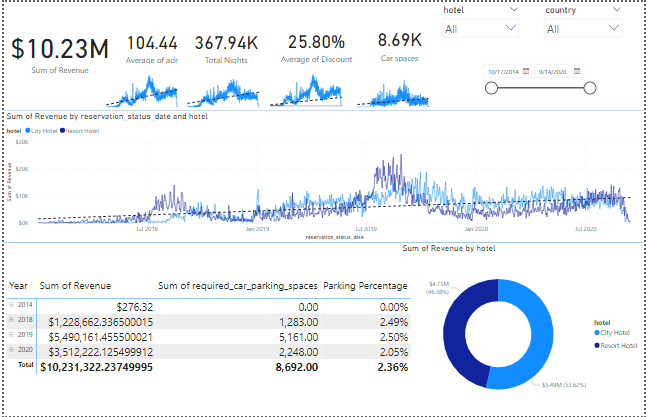

The page's visual inventory and layout, read from the dashboard file:
{"tool":"powerbi","page":{"name":"Page 1","canvas":[1280,828],"ordinal":0},"visuals":[{"type":"shape","box":[0,79,1280,280.5],"z":0},{"type":"shape","box":[0,341,1280,280.5],"z":1000},{"type":"card","fields":{"Values":["Sum(Query2.Revenue)"]},"box":[0,1.7,223.6,191.1],"z":2000},{"type":"card","fields":{"Values":["Avg(Query2.adr)"]},"box":[211.6,41,167.3,95.6],"z":3000},{"type":"card","fields":{"Values":["Query2.Total Nights"]},"box":[366.9,39.3,157,95.6],"z":4000},{"type":"lineChart","fields":{"Category":["Query2.reservation_status_date"],"Y":["Sum(Query2.Revenue)"],"Series":["Query2.hotel"]},"box":[0,218.5,1280,262.8],"z":5000},{"type":"slicer","fields":{"Values":["Query2.country"]},"box":[1070.1,0,175.8,92.2],"z":6000},{"type":"slicer","fields":{"Values":["Query2.hotel"]},"box":[865.3,0,174.1,92.2],"z":7000},{"type":"lineChart","fields":{"Category":["Query2.reservation_status_date"],"Y":["Sum(Query2.adr)"]},"box":[189.4,124.6,172.4,92.2],"z":8000},{"type":"lineChart","fields":{"Category":["Query2.reservation_status_date"],"Y":["Sum(Query2.adr)","Avg(Query2.Discount)"]},"box":[517.1,122.9,172.4,92.2],"z":9000},{"type":"lineChart","fields":{"Category":["Query2.reservation_status_date"],"Y":["Query2.Total Nights"]},"box":[351.6,124.6,172.4,92.2],"z":10000},{"type":"card","fields":{"Values":["Avg(Query2.Discount)"]},"box":[541,37.5,165.5,97.3],"z":11000},{"type":"card","fields":{"Values":["Sum(Query2.required_car_parking_spaces)"]},"box":[720.2,42.7,143.4,81.9],"z":12000},{"type":"lineChart","fields":{"Category":["Query2.reservation_status_date"],"Y":["Sum(Query2.required_car_parking_spaces)"]},"box":[691.2,124.6,172.4,92.2],"z":13000},{"type":"donutChart","fields":{"Y":["Sum(Query2.Revenue)"],"Category":["Query2.hotel","Query2.reservation_status_date.Variation.Date Hierarchy.Year","Query2.reservation_status_date.Variation.Date Hierarchy.Day"]},"box":[791.9,481.3,488.1,346.5],"z":14000},{"type":"pivotTable","fields":{"Rows":["Query2.reservation_status_date.Variation.Date Hierarchy.Year","Query2.hotel"],"Values":["Sum(Query2.Revenue)","Sum(Query2.required_car_parking_spaces)","Query2.Parking Percentage"]},"box":[0,546.1,820.9,218.5],"z":15000},{"type":"slicer","fields":{"Values":["Query2.reservation_status_date"]},"box":[946.6,113.8,246.6,79.3],"z":15001}]}

Visuals, with their boxes in screenshot pixels (x1, y1, x2, y2), scaled from the page's 1280x828 canvas onto the 649x417 screenshot:
shape: (x1=0, y1=40, x2=648, y2=181)
shape: (x1=0, y1=172, x2=648, y2=313)
card - Sum(Query2.Revenue): (x1=0, y1=1, x2=113, y2=97)
card - Avg(Query2.adr): (x1=107, y1=21, x2=192, y2=69)
card - Query2.Total Nights: (x1=186, y1=20, x2=266, y2=68)
lineChart - Query2.reservation_status_date x Sum(Query2.Revenue): (x1=0, y1=110, x2=648, y2=242)
slicer - Query2.country: (x1=543, y1=0, x2=632, y2=46)
slicer - Query2.hotel: (x1=439, y1=0, x2=527, y2=46)
lineChart - Query2.reservation_status_date x Sum(Query2.adr): (x1=96, y1=63, x2=183, y2=109)
lineChart - Query2.reservation_status_date x Sum(Query2.adr): (x1=262, y1=62, x2=350, y2=108)
lineChart - Query2.reservation_status_date x Query2.Total Nights: (x1=178, y1=63, x2=266, y2=109)
card - Avg(Query2.Discount): (x1=274, y1=19, x2=358, y2=68)
card - Sum(Query2.required_car_parking_spaces): (x1=365, y1=22, x2=438, y2=63)
lineChart - Query2.reservation_status_date x Sum(Query2.required_car_parking_spaces): (x1=350, y1=63, x2=438, y2=109)
donutChart - Sum(Query2.Revenue) x Query2.hotel: (x1=402, y1=242, x2=648, y2=416)
pivotTable - Query2.reservation_status_date.Variation.Date Hierarchy.Year x Query2.hotel: (x1=0, y1=275, x2=416, y2=385)
slicer - Query2.reservation_status_date: (x1=480, y1=57, x2=605, y2=97)
